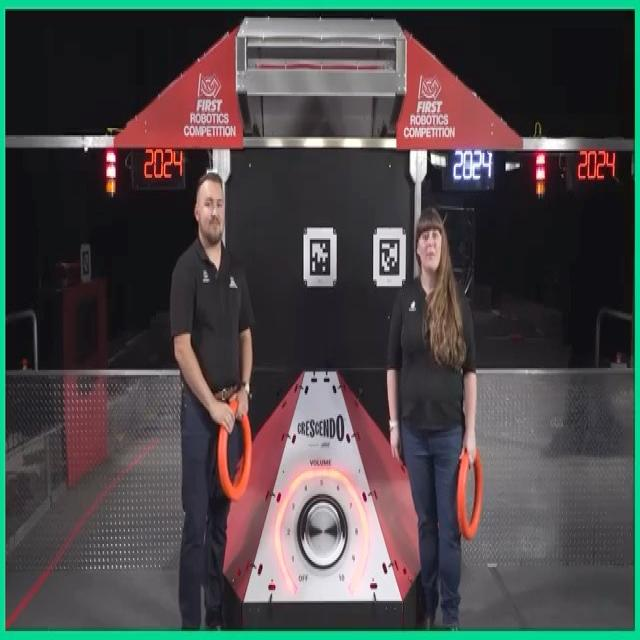note: (218, 393, 252, 502), (456, 447, 484, 538)
